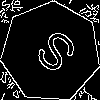S: (25, 27, 80, 83)
